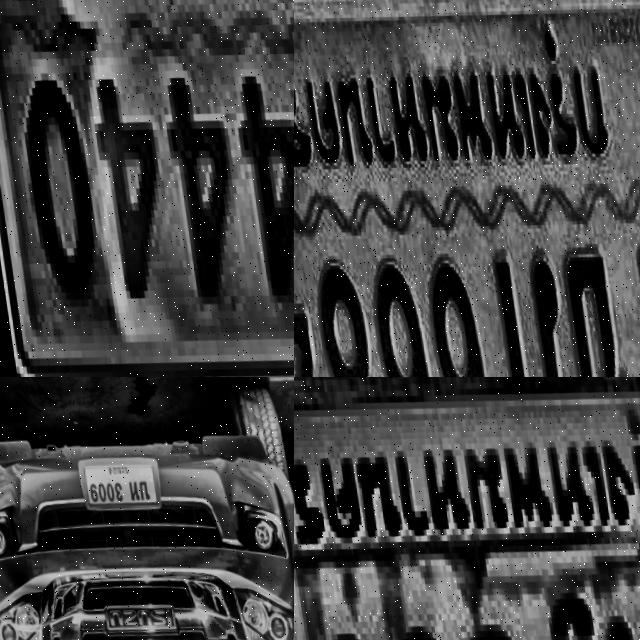license-plate: (294, 0, 640, 377), (0, 0, 294, 377), (294, 377, 640, 640), (73, 447, 160, 510)
